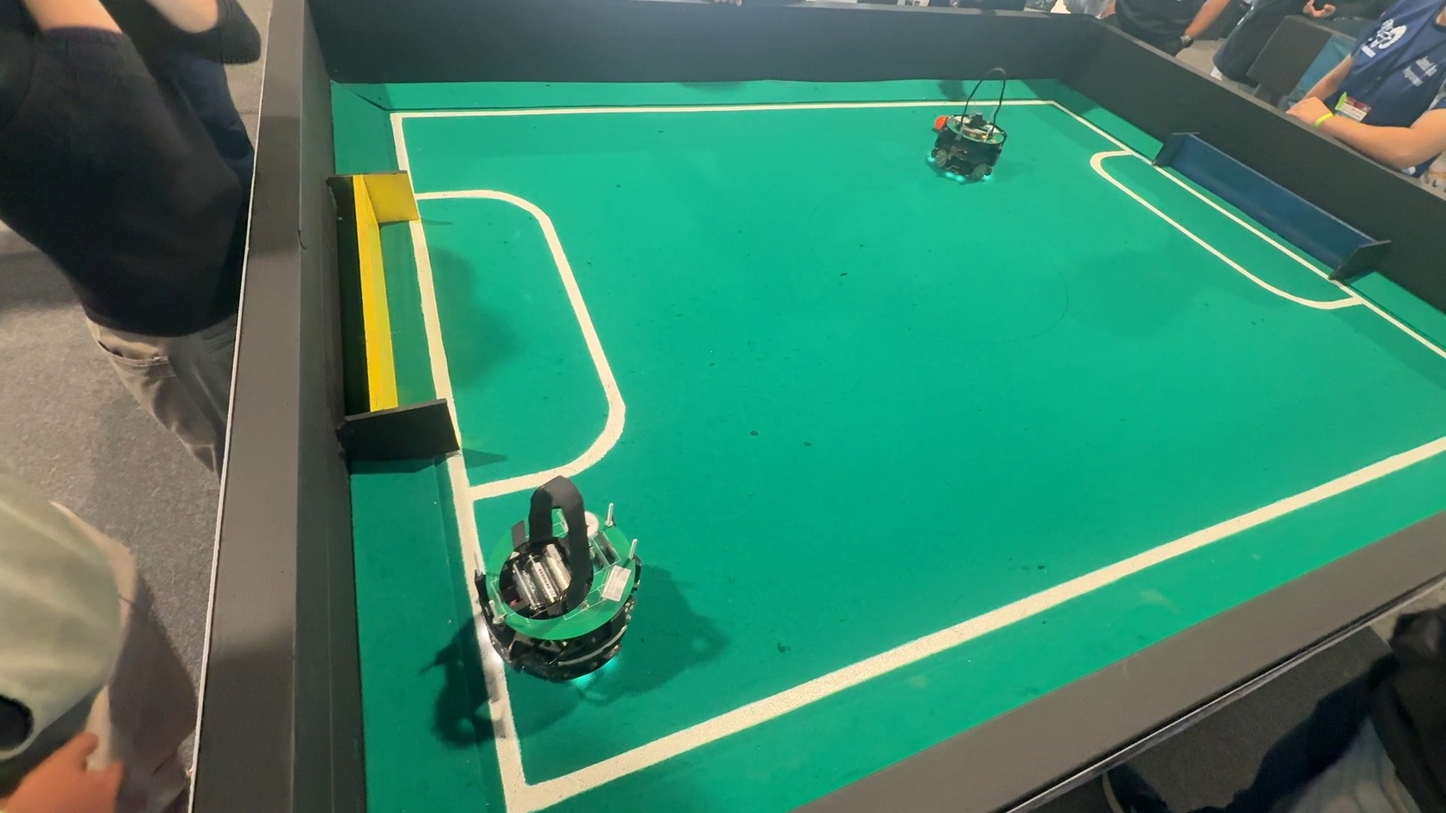Robot: (469, 469, 701, 703), (905, 70, 1033, 198)
